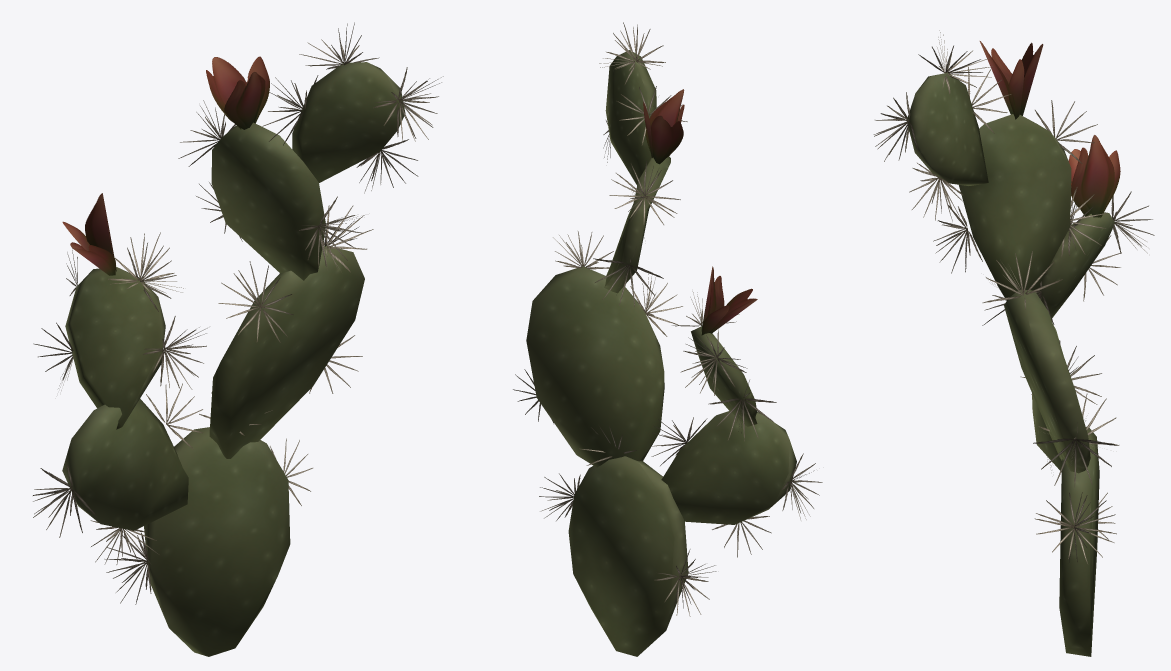
File: Scene_Tree_XianRenZhang_7.FBX
3 renders of one model, left to right at view 1: azimuth 30°, elevation 25°; view 2: azimuth 150°, elevation 25°; view 3: azimuth 270°, elevation 25°, orthographic. The views are drawn at different scales.
Visible parts, largest first — view 1: Scene_Tree_XianRenZhang_7a, Scene_Tree_XianRenZhang_7b; view 2: Scene_Tree_XianRenZhang_7a, Scene_Tree_XianRenZhang_7b; view 3: Scene_Tree_XianRenZhang_7a, Scene_Tree_XianRenZhang_7b.
Part boxes in pixels (x1,y1,x2,y2): Scene_Tree_XianRenZhang_7a: [62, 62, 405, 656]; Scene_Tree_XianRenZhang_7b: [33, 22, 443, 604]; Scene_Tree_XianRenZhang_7a: [526, 50, 796, 656]; Scene_Tree_XianRenZhang_7b: [513, 22, 822, 616]; Scene_Tree_XianRenZhang_7a: [907, 72, 1114, 656]; Scene_Tree_XianRenZhang_7b: [873, 30, 1154, 564].
Size of the model in its own units: 148 by 261 by 105.
